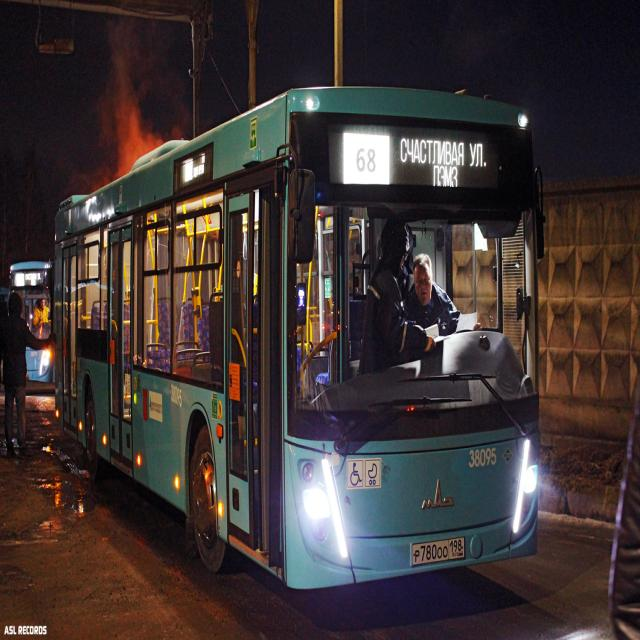number-of-bus: (352, 138, 384, 182)
